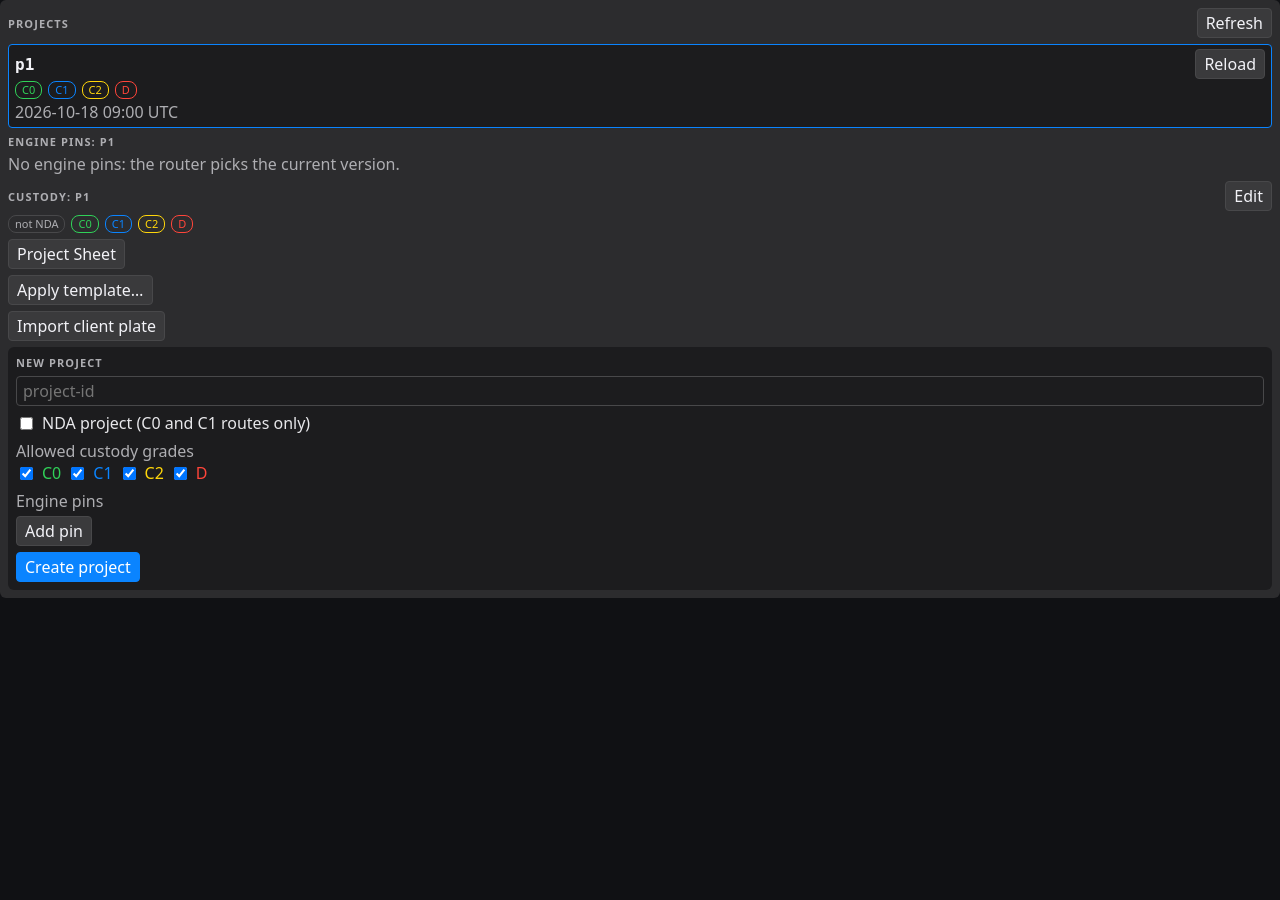
import a client plate › shows the daemon's refusal as it sent it
This screenshot has width=1280, height=900.
expect the element with test id "custody-row" is shown: met, box [8, 181, 1272, 233]
Click the button "Import client plate".
click(86, 326)  # box [8, 311, 165, 341]
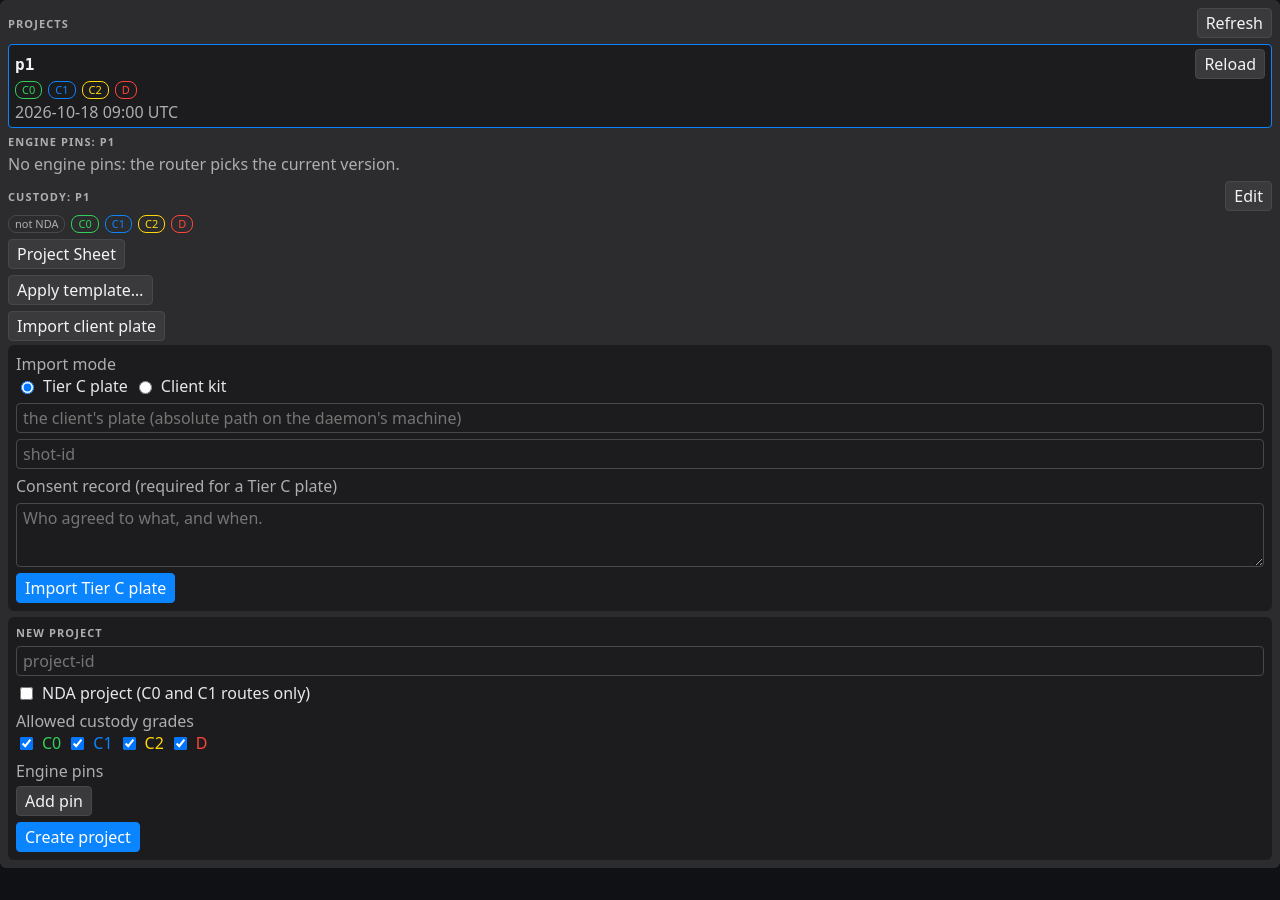
Type "/clients/tula/plate.png" into the field named "Plate path".
click(640, 418); type("/clients/tula/plate.png")  # box [16, 403, 1264, 433]
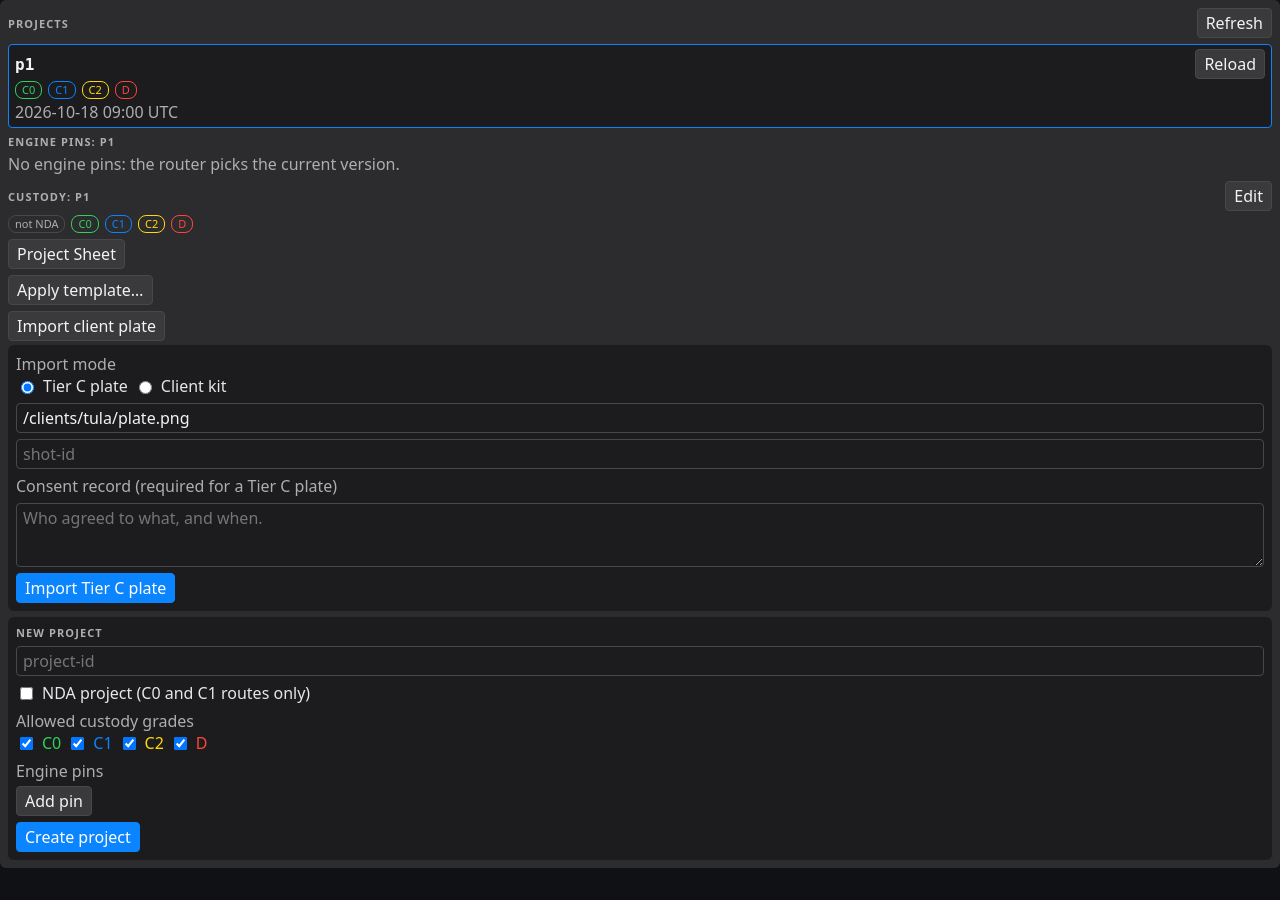
Type "s01" into the field named "Shot id".
click(640, 454); type("s01")  # box [16, 439, 1264, 469]
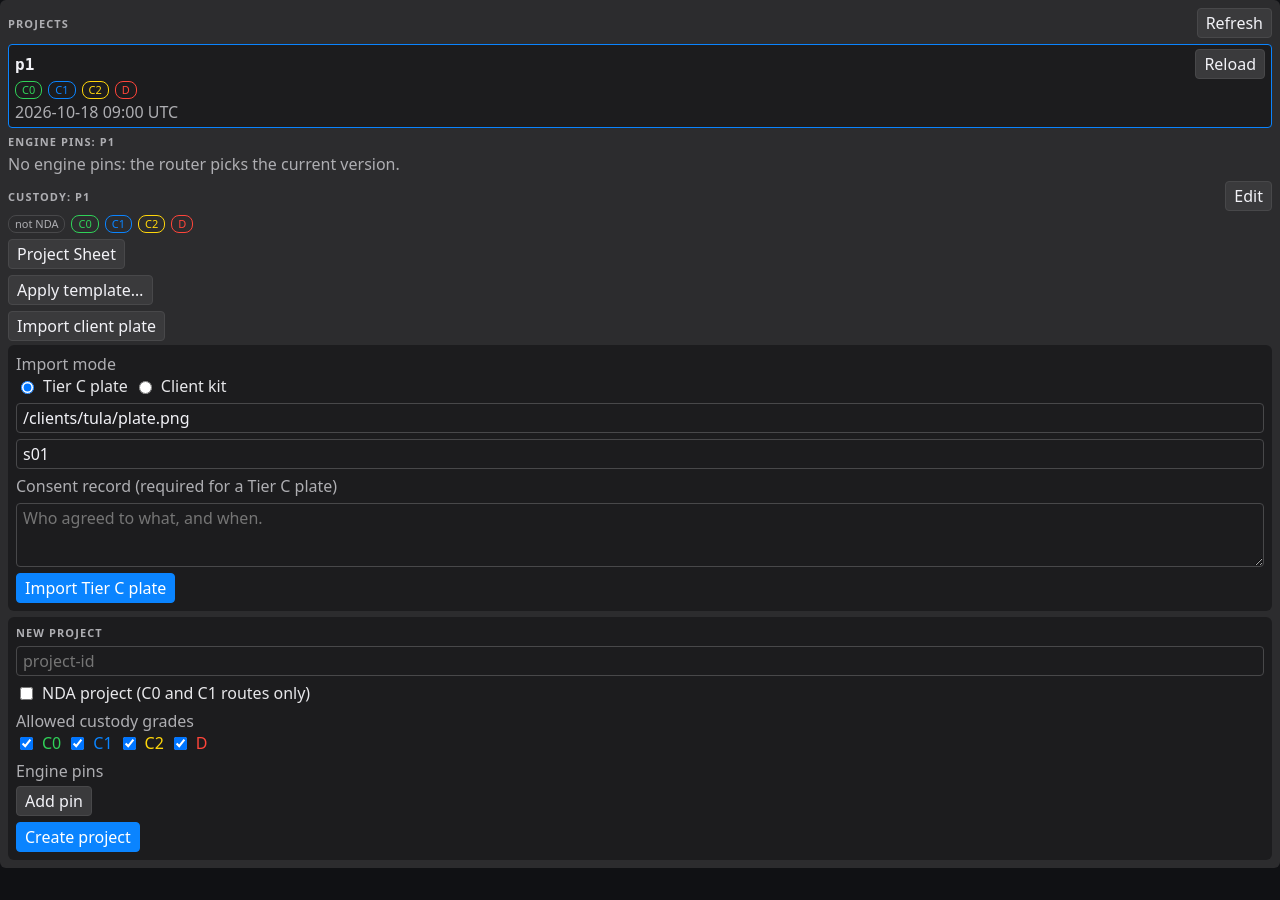
Type "a record" into the text box named "Consent record".
click(640, 535); type("a record")  # box [16, 503, 1264, 567]
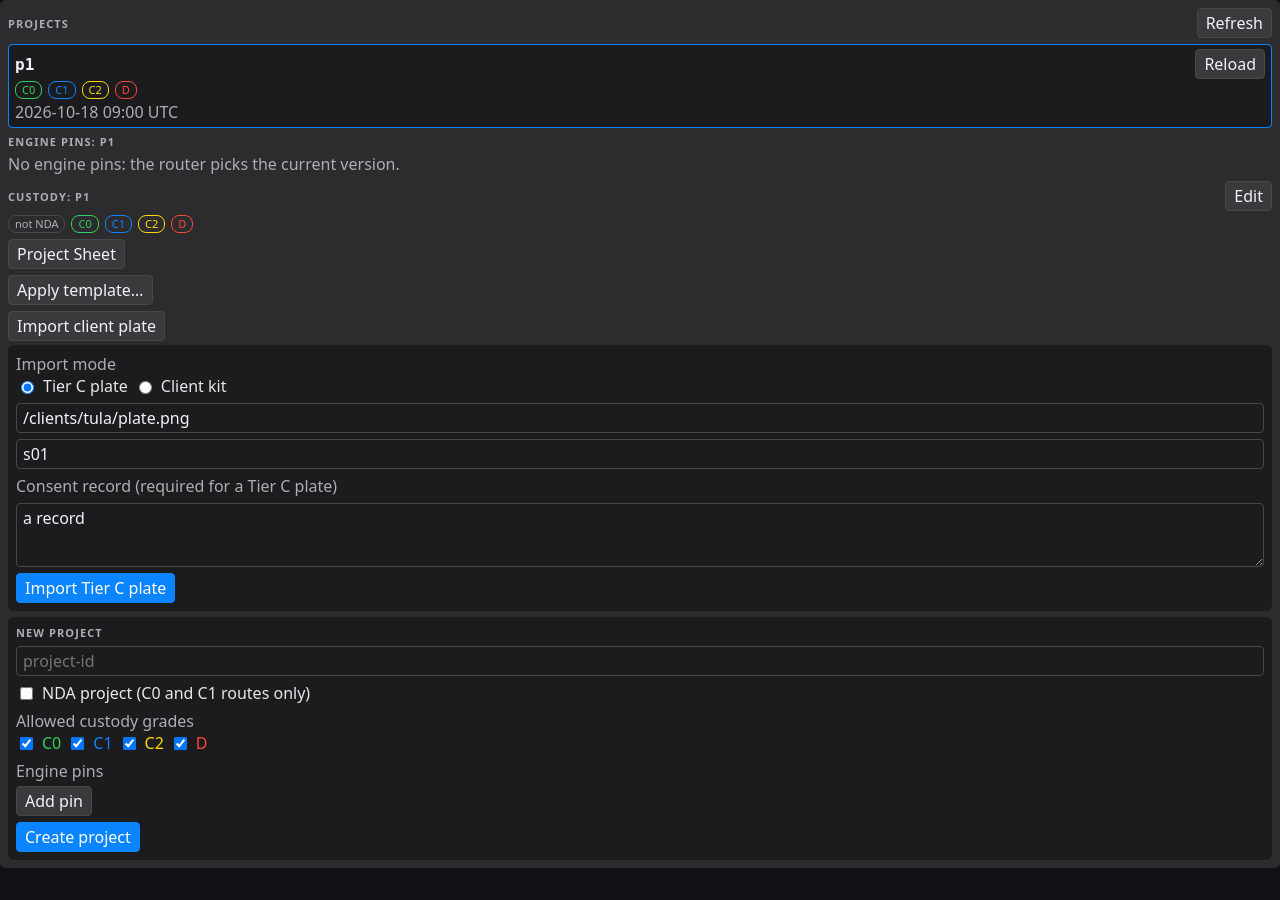
Click the button "Import Tier C plate".
click(96, 588)  # box [16, 573, 175, 603]
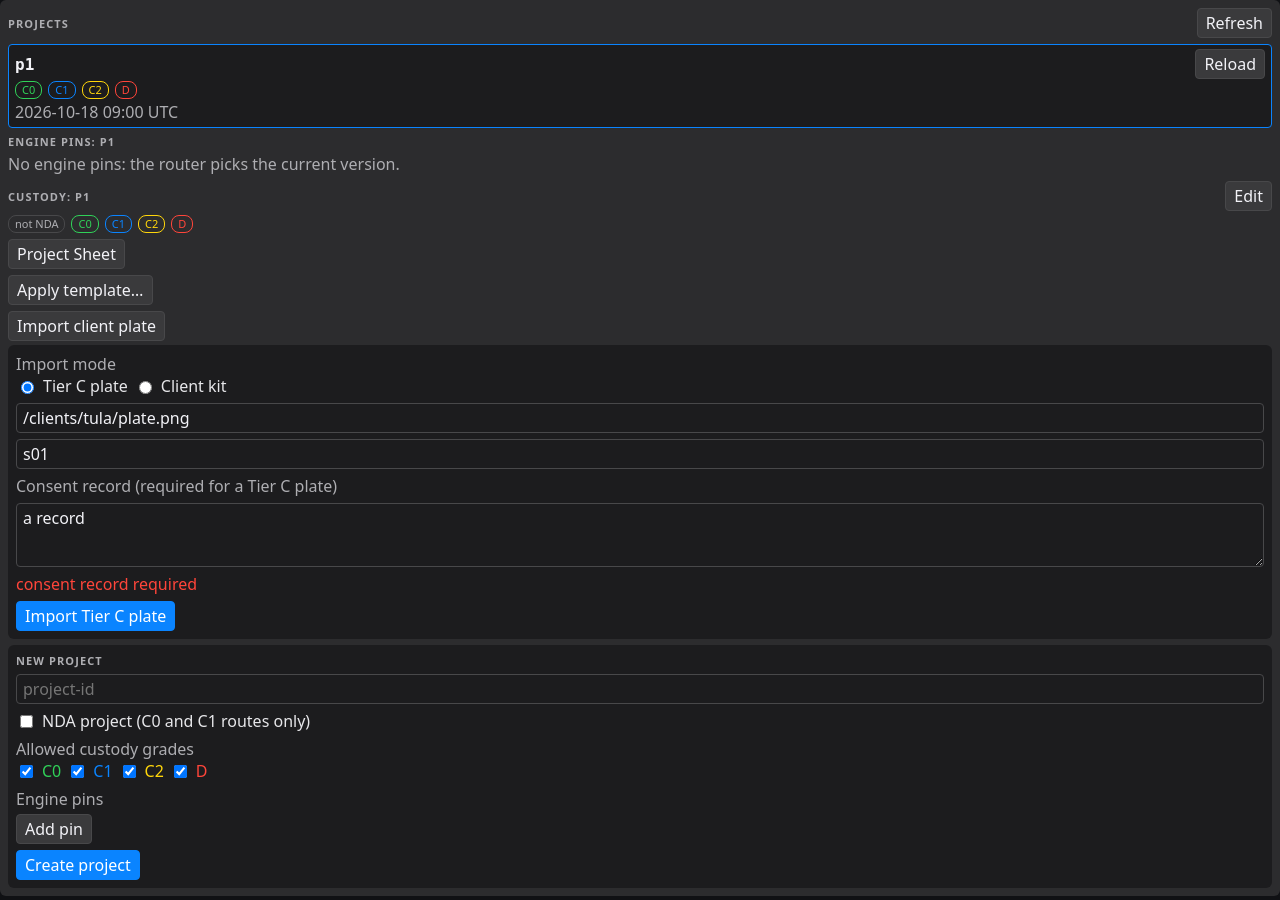
expect the message reads "consent record required": met, box [16, 573, 197, 595]
